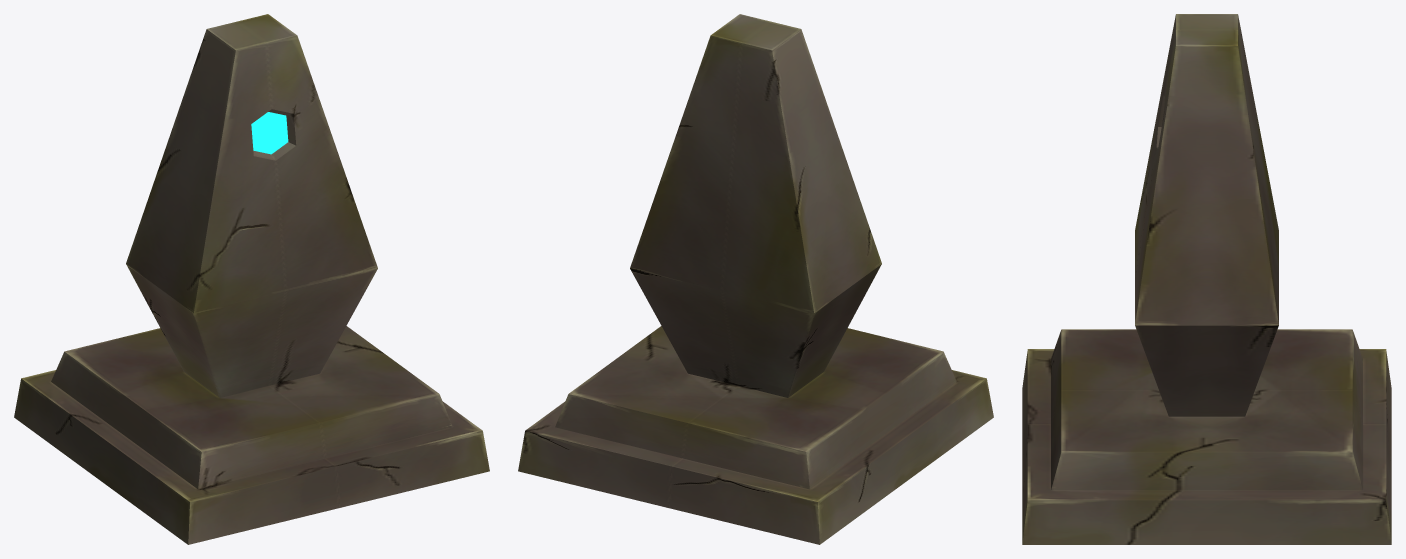
Rendered from fantasy_shrine_low_poly.glb.
3 views of the same model, side by side, from view 1: azimuth 30°, elevation 25°; view 2: azimuth 150°, elevation 25°; view 3: azimuth 270°, elevation 25° (orthographic). The views are drawn at different scales.
Visible parts, largest first — view 1: Cube.002; view 2: Cube.002; view 3: Cube.002.
Boxes of the visible parts, x1=… form: Cube.002: x1=14, y1=14, x2=489, y2=544; Cube.002: x1=518, y1=14, x2=993, y2=544; Cube.002: x1=1022, y1=14, x2=1391, y2=544.
Bounding box in the file's own units: 1.23 × 1.6 × 1.23.
Materials: 2 (1 with a texture image).
